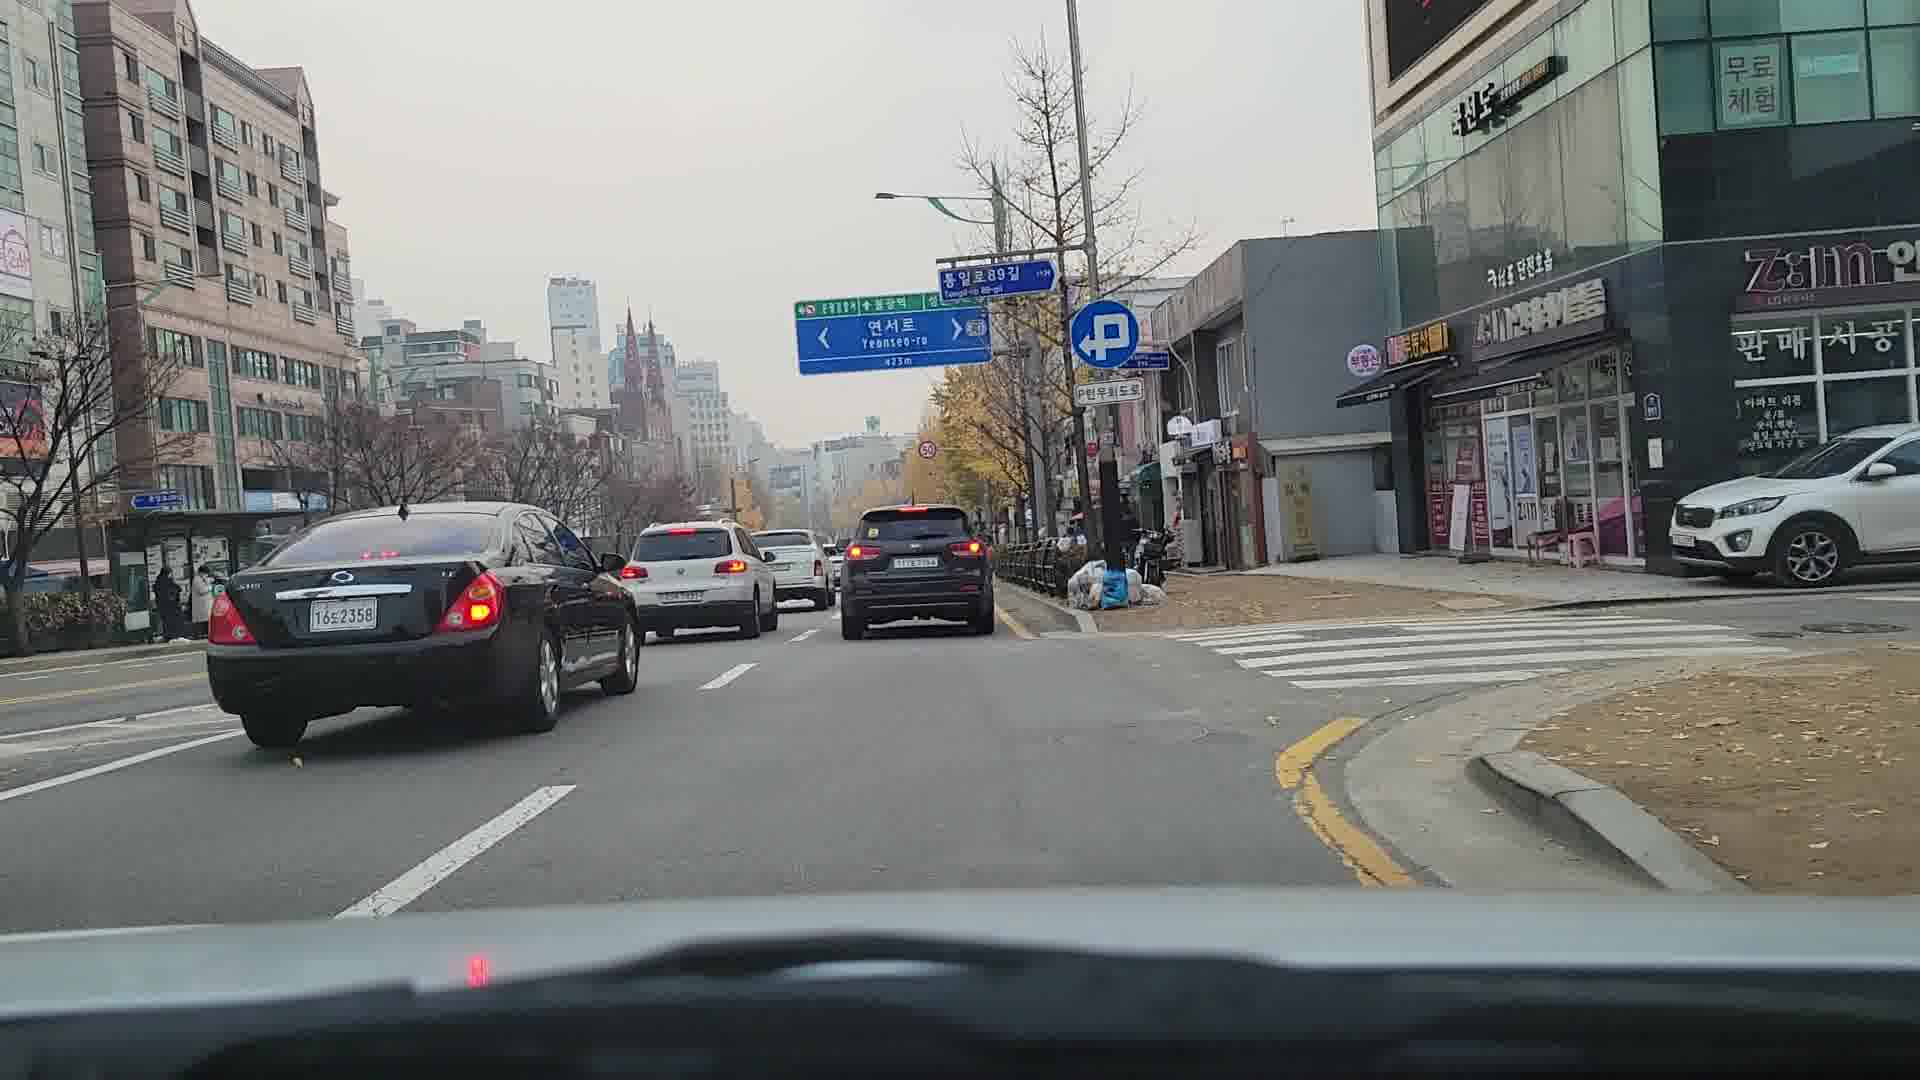bicycle: (1129, 525, 1183, 589)
car: (198, 499, 647, 752), (1665, 417, 1916, 586), (616, 522, 782, 642), (748, 531, 837, 610)
person: (1073, 558, 1134, 610)
truck: (836, 503, 999, 640)
